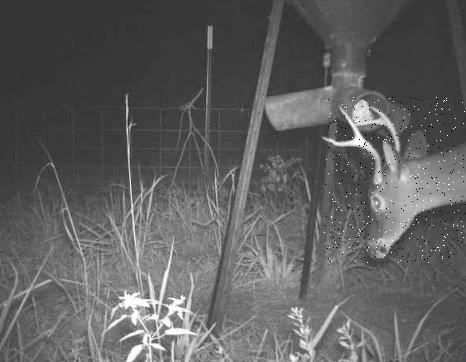Deer: (324, 97, 466, 263)
